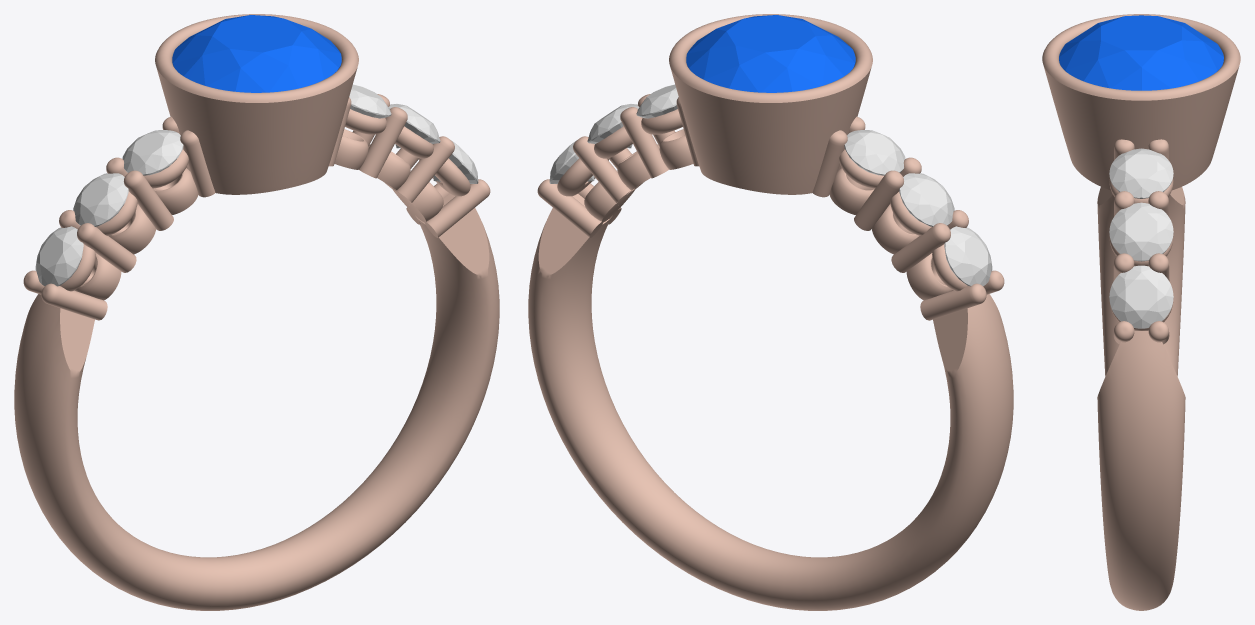
Rendered from bluesapphire-round-rosegold-bezelset-taperedband-3stone.glb.
3 renders of one model, left to right at view 1: azimuth 30°, elevation 25°; view 2: azimuth 150°, elevation 25°; view 3: azimuth 270°, elevation 25°, orthographic. The views are drawn at different scales.
Visible parts, largest first — view 1: metal, stone, side.001, side.002, side, side.003, side.004; view 2: metal, stone, side.001, side.002, side, side.003, side.004; view 3: metal, stone, side.005, side.004, side.003.
Part boxes in pixels (bbox=[...]): metal: bbox=[14, 14, 499, 610]; stone: bbox=[172, 15, 341, 92]; side.001: bbox=[73, 173, 128, 226]; side.002: bbox=[35, 226, 83, 286]; side: bbox=[122, 130, 183, 175]; side.003: bbox=[349, 84, 391, 118]; side.004: bbox=[388, 104, 440, 148]; metal: bbox=[528, 14, 1013, 610]; stone: bbox=[686, 15, 855, 92]; side.001: bbox=[899, 173, 954, 226]; side.002: bbox=[944, 226, 992, 286]; side: bbox=[844, 130, 905, 175]; side.003: bbox=[636, 84, 678, 118]; side.004: bbox=[587, 104, 639, 148]; metal: bbox=[1042, 14, 1240, 610]; stone: bbox=[1059, 15, 1223, 90]; side.005: bbox=[1109, 265, 1173, 328]; side.004: bbox=[1109, 202, 1173, 261]; side.003: bbox=[1109, 148, 1173, 198].
Size of the model in its own units: 20.5 by 23.81 by 7.74.
